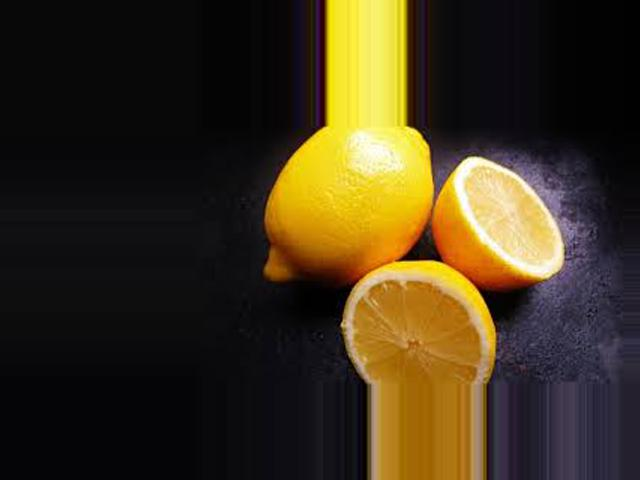lemon: (250, 128, 443, 280)
